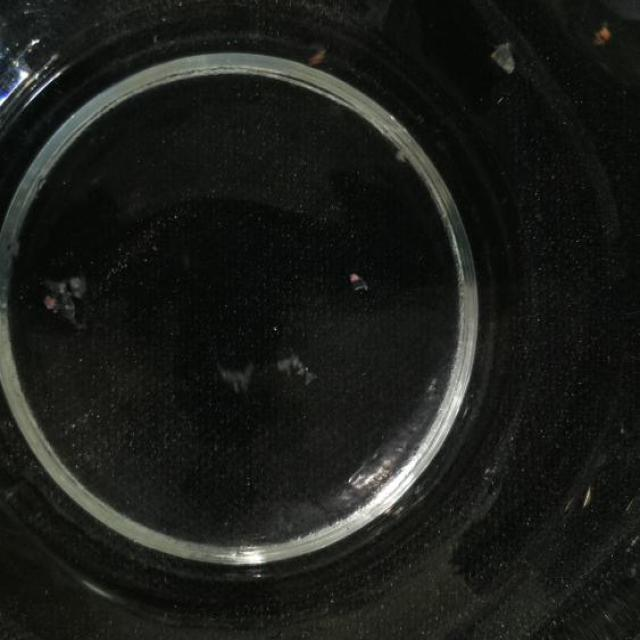fiber: (43, 265, 100, 324), (263, 344, 317, 394), (483, 30, 528, 78), (210, 357, 260, 397), (299, 38, 340, 72), (62, 626, 88, 639)
